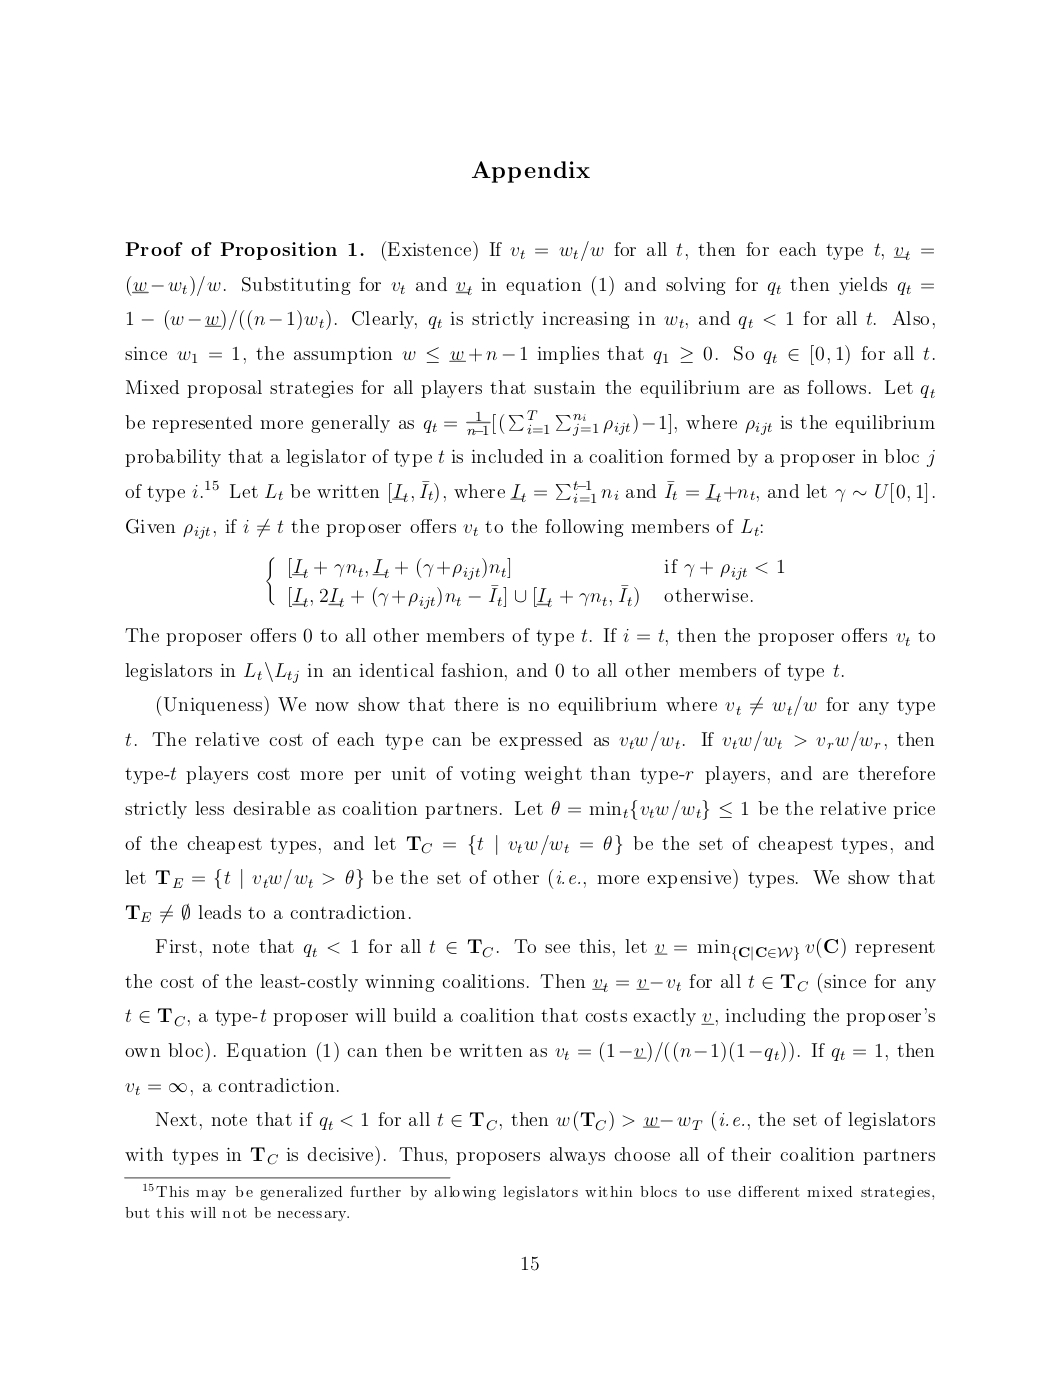formula: (266, 557, 783, 608)
